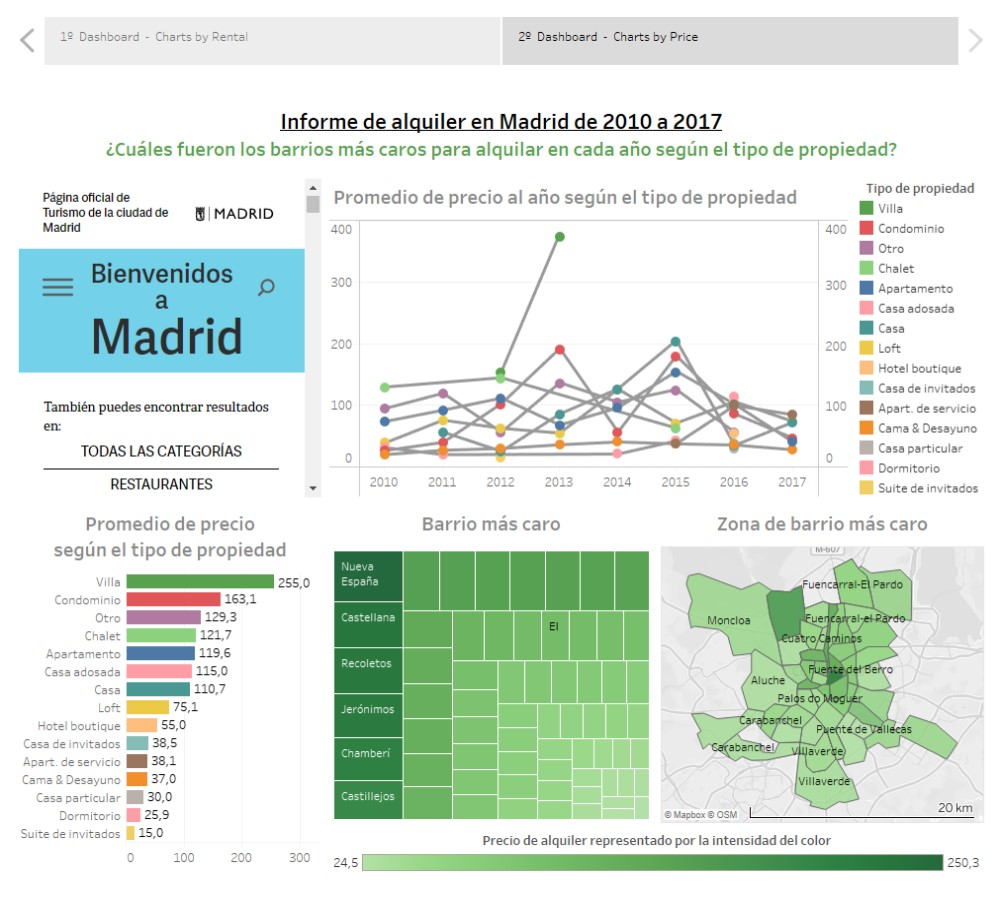

What the dashboard file says about the page in this screenshot:
{"tool":"tableau","page":{"name":"Dashboard Price","canvas":[1000,800],"ordinal":0},"visuals":[{"type":"text","box":[8,8,984,82]},{"type":"web page","param":"https://www.esmadrid.com/alojamientos/busqueda?text=Nueva España","box":[8,90,314,327]},{"type":"worksheet","title":"Host Since Price","mark":"Automatic","rows":["Price","Price"],"cols":["Host Since"],"box":[322,90,533,327]},{"type":"legend","title":"Property Type Price","param":"[federated.1udwh8q0tbumw4154ofjs1mkrbgk].[none:Property Type:nk]","box":[855,90,137,327]},{"type":"worksheet","title":"Property Type Price","mark":"Bar","rows":["Property Type"],"cols":["Price"],"box":[8,417,314,375]},{"type":"worksheet","title":"Neighborhood Price ","mark":"Square","box":[322,417,335,326]},{"type":"worksheet","title":"Zipcode Price","mark":"Multipolygon","box":[657,417,335,326]},{"type":"legend","title":"Neighborhood Price ","param":"[federated.1udwh8q0tbumw4154ofjs1mkrbgk].[avg:Price:qk]","box":[322,743,670,49]}]}

Visuals, with their boxes on the page's 1000x800 design canvas (x1, y1, x2, y2). These are canvas units, not pixel positions in the 1000x900 screenshot, which may show the page scaled, cropped or inside an application window:
text: bbox(8, 8, 992, 90)
web page: bbox(8, 90, 322, 417)
"Host Since Price" worksheet: bbox(322, 90, 855, 417)
"Property Type Price" legend: bbox(855, 90, 992, 417)
"Property Type Price" worksheet (Bar marks): bbox(8, 417, 322, 792)
"Neighborhood Price " worksheet (Square marks): bbox(322, 417, 657, 743)
"Zipcode Price" worksheet (Multipolygon marks): bbox(657, 417, 992, 743)
"Neighborhood Price " legend: bbox(322, 743, 992, 792)
